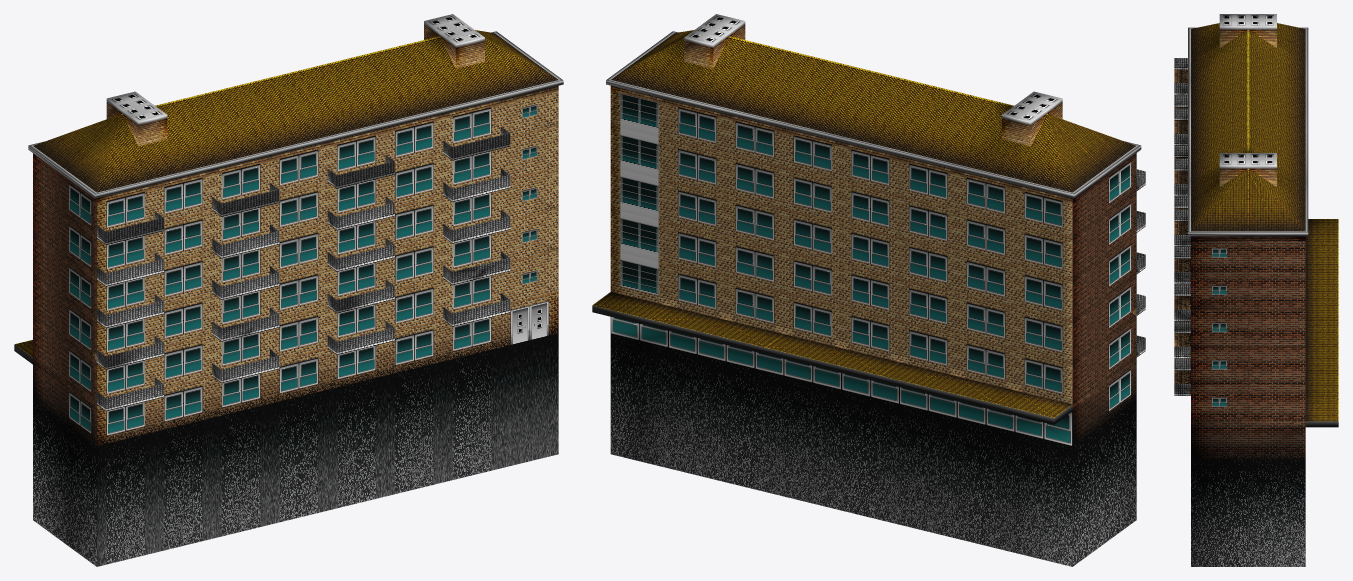
Rendered from flat_mod2_1b.fbx.
3 views of the same model, side by side, from view 1: azimuth 30°, elevation 25°; view 2: azimuth 150°, elevation 25°; view 3: azimuth 270°, elevation 25° (orthographic). The views are drawn at different scales.
Visible parts, largest first — view 1: flat_mod2_1b; view 2: flat_mod2_1b; view 3: flat_mod2_1b.
Part boxes in pixels (bbox=[...]): flat_mod2_1b: bbox=[14, 14, 563, 566]; flat_mod2_1b: bbox=[592, 14, 1145, 566]; flat_mod2_1b: bbox=[1174, 14, 1338, 566].
Size of the model in its own units: 3650 by 3123 by 1238.
